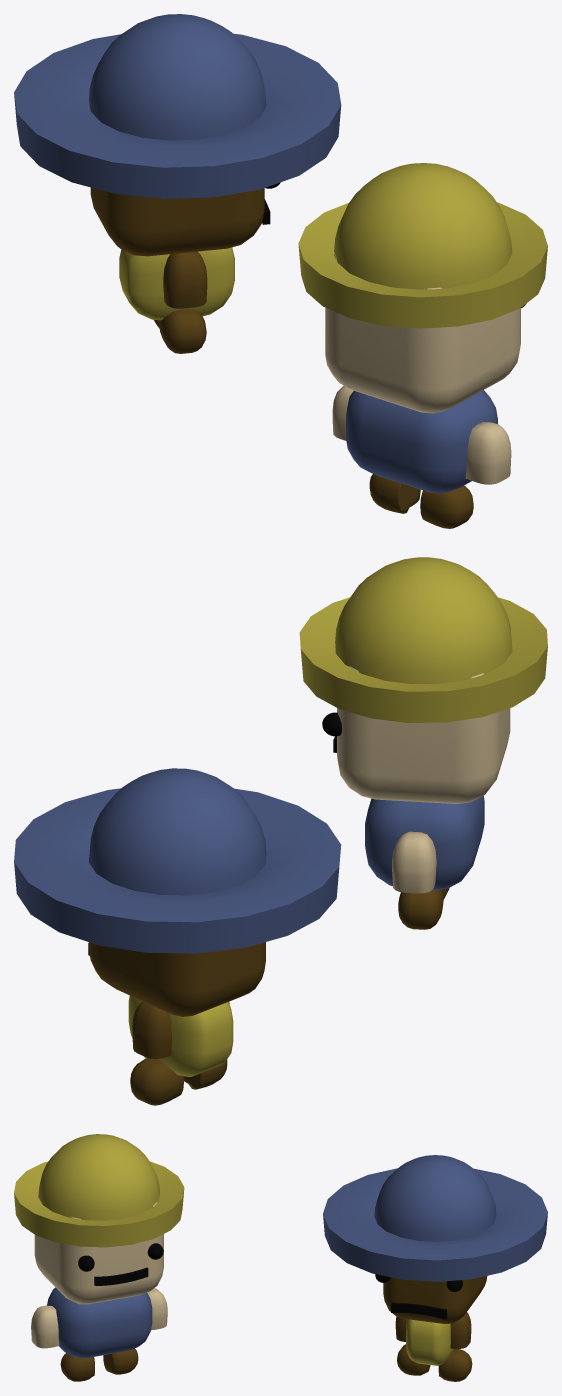
The model's file is 2 farmers.fbx.
3 views of the same model, one above another, from view 1: azimuth 30°, elevation 25°; view 2: azimuth 150°, elevation 25°; view 3: azimuth 270°, elevation 25° (orthographic). The views are drawn at different scales.
Visible parts, largest first — view 1: hat (×2), head (×2), body (×2), arm_l (×2), leg_l (×2), leg_r, arm_r; view 2: hat (×2), head (×2), body (×2), arm_r (×2), leg_r (×2); view 3: hat (×2), head (×2), body (×2), leg_r (×2), leg_l (×2), arm_r (×2), rot (×2), arm_l.
Part boxes in pixels (x1,y1,x2,y2): hat (×2): [14, 14, 547, 328]; head (×2): [90, 187, 520, 413]; body (×2): [119, 247, 497, 493]; arm_l (×2): [163, 251, 511, 484]; leg_l (×2): [159, 309, 473, 528]; leg_r: [369, 474, 420, 513]; arm_r: [332, 385, 353, 440]; hat (×2): [14, 557, 547, 953]; head (×2): [89, 666, 510, 1016]; body (×2): [128, 796, 484, 1076]; arm_r (×2): [132, 831, 436, 1058]; leg_r (×2): [130, 889, 443, 1105]; hat (×2): [14, 1134, 547, 1281]; head (×2): [34, 1202, 487, 1323]; body (×2): [47, 1287, 453, 1365]; leg_r (×2): [103, 1348, 472, 1381]; leg_l (×2): [60, 1344, 430, 1381]; arm_r (×2): [147, 1288, 471, 1348]; rot (×2): [94, 1267, 447, 1319]; arm_l: [31, 1305, 59, 1348].
Bounding box in the file's own units: 12.05 × 14 × 28.59.
